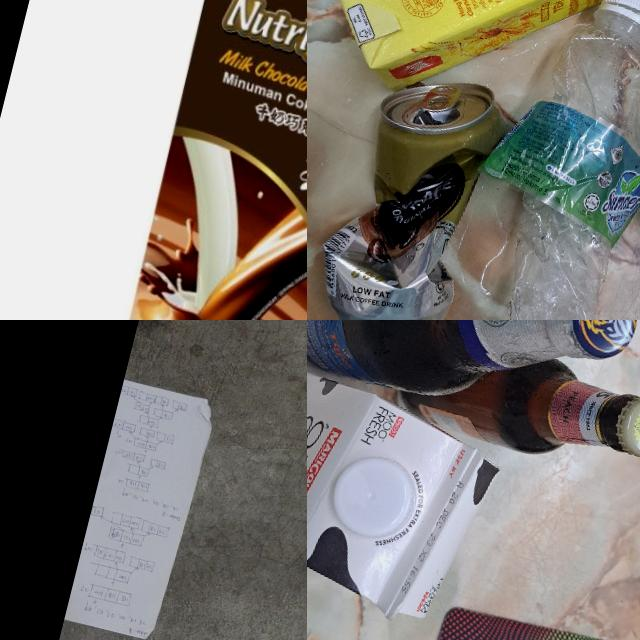aba de lata: (419, 79, 464, 117)
caixinha: (79, 0, 307, 320), (307, 340, 510, 634), (316, 0, 640, 140)
garrafa de vidro: (307, 320, 640, 448), (397, 339, 640, 491)
garrafa plástica: (435, 0, 640, 320)
lata: (307, 56, 525, 320)
papel: (61, 372, 217, 640)
tampa plástica: (317, 442, 431, 548), (595, 0, 640, 37)
